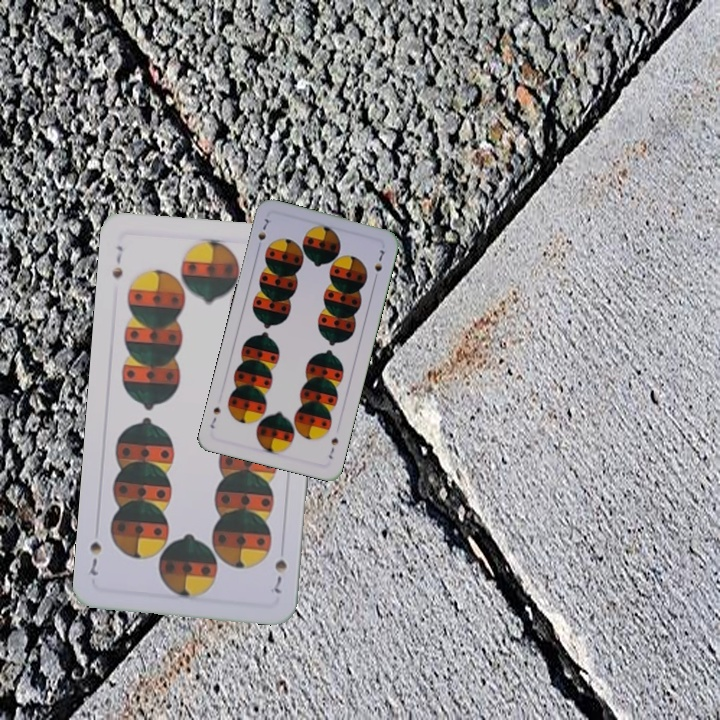S7: (270, 555, 290, 596), (107, 242, 126, 282), (253, 214, 272, 253), (324, 434, 341, 462)
